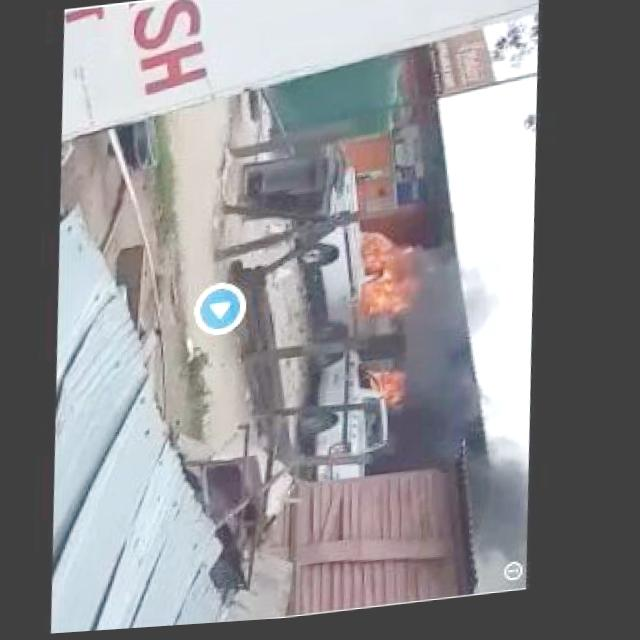helmet: (356, 227, 445, 333), (368, 364, 426, 420)
no_helmet: (401, 236, 557, 577)
